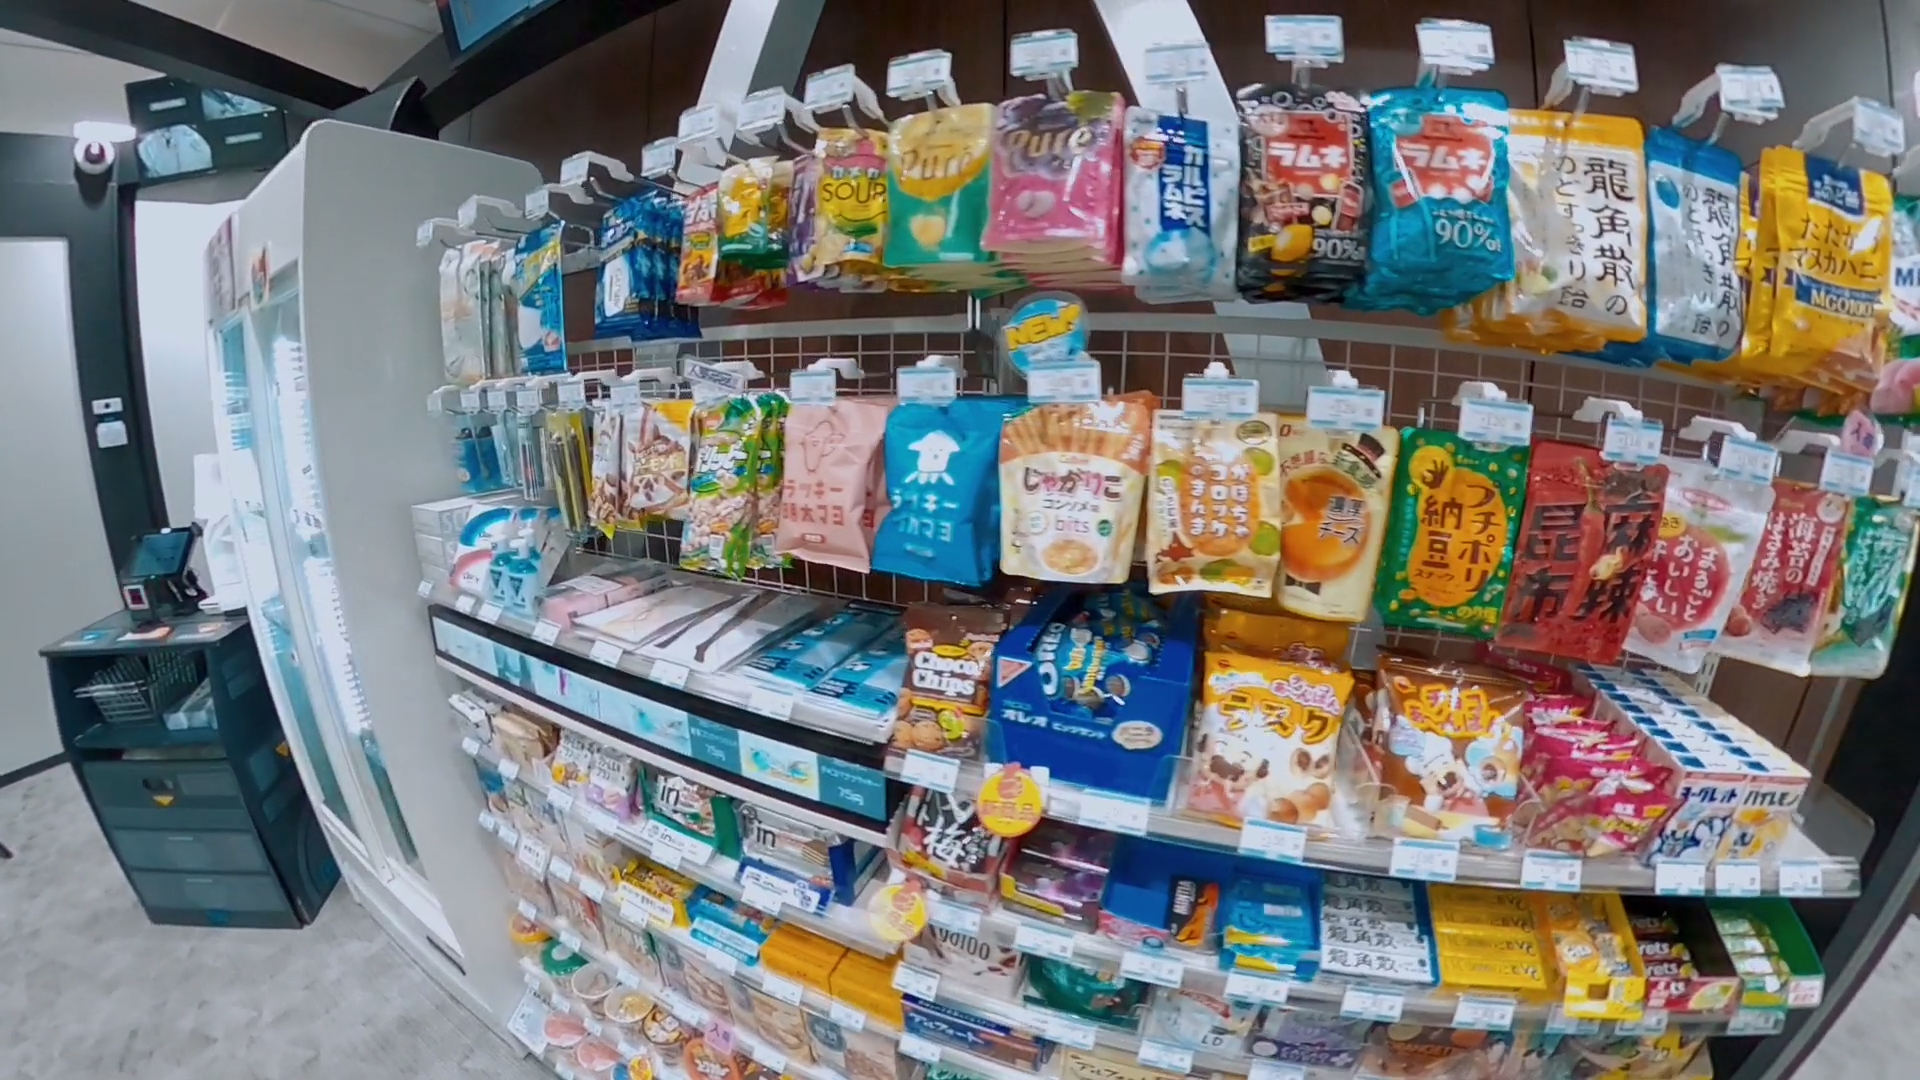NorinoHasamiyaki: (1811, 494, 1918, 675)
